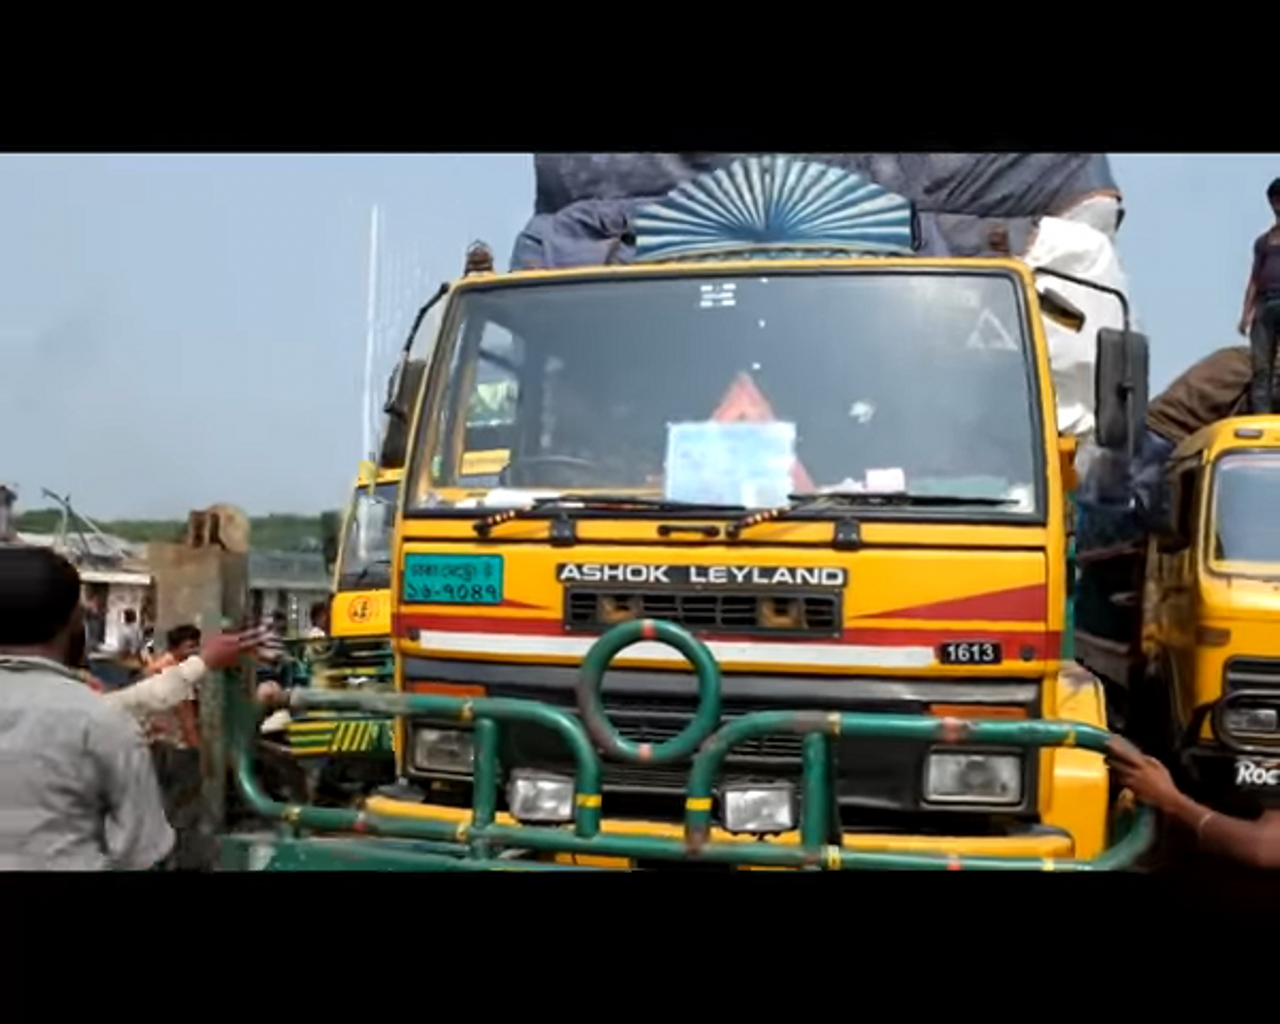truck: (305, 191, 1153, 867), (1120, 399, 1280, 796)
